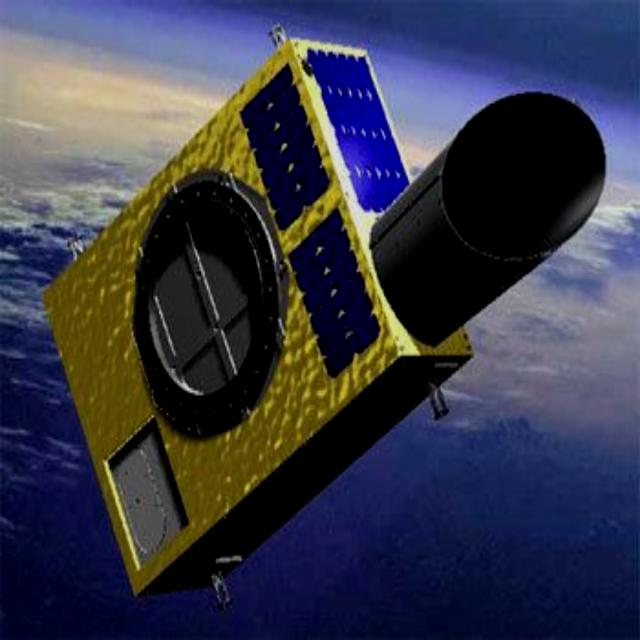large_debris: (41, 21, 586, 599)
